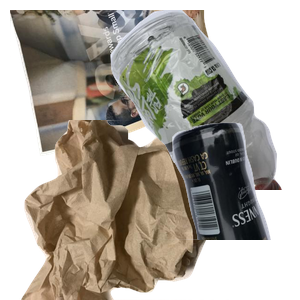glass: (106, 120, 300, 300)
paper: (10, 10, 233, 158)
plastic: (73, 10, 300, 190)
trash: (19, 120, 249, 300)
